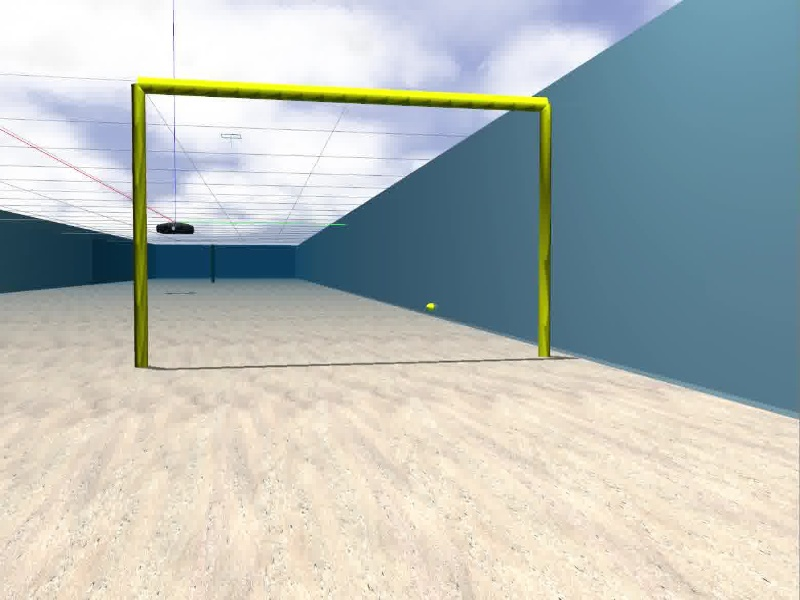gate: (128, 78, 555, 368)
